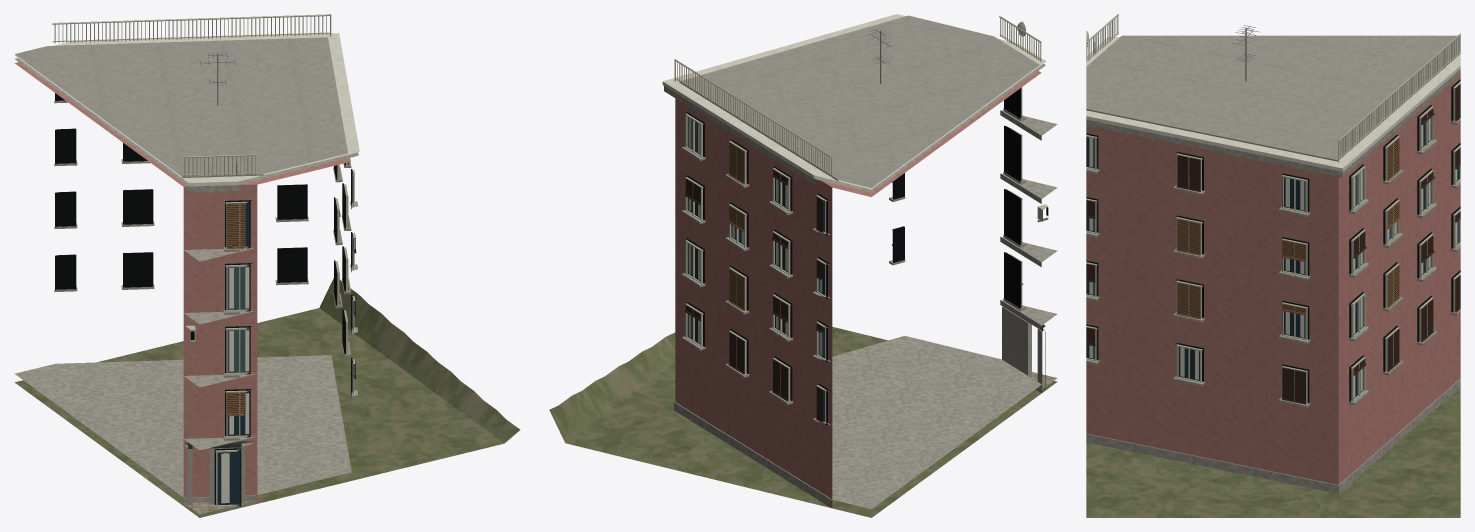
The model's file is 7_12_e56dce04bbd5.glb.
3 views of the same model, side by side, from view 1: azimuth 30°, elevation 25°; view 2: azimuth 150°, elevation 25°; view 3: azimuth 270°, elevation 25° (orthographic).
Bounding box in the file's own units: 16 × 18.26 × 16.
Materials: 15 (6 with a texture image).
